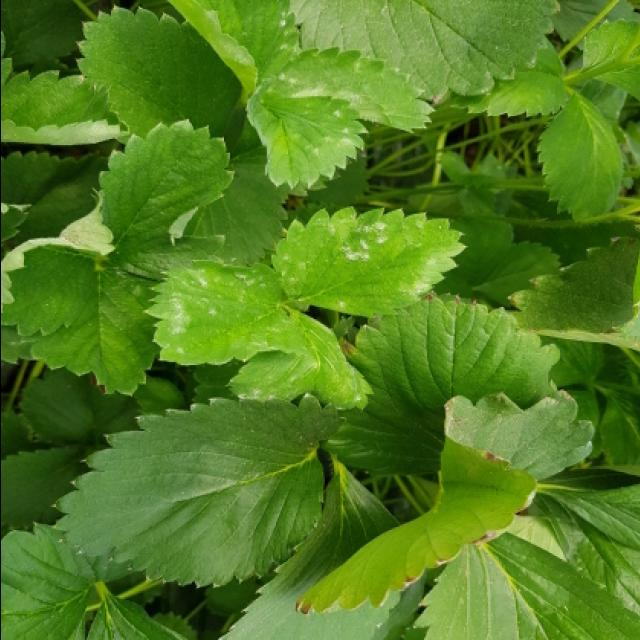Powdery Mildew Leaf: (270, 205, 466, 320), (98, 119, 235, 262), (139, 256, 306, 365), (258, 45, 434, 136), (226, 309, 374, 412), (2, 203, 114, 338), (163, 0, 301, 105), (242, 91, 369, 192), (2, 71, 128, 144)
